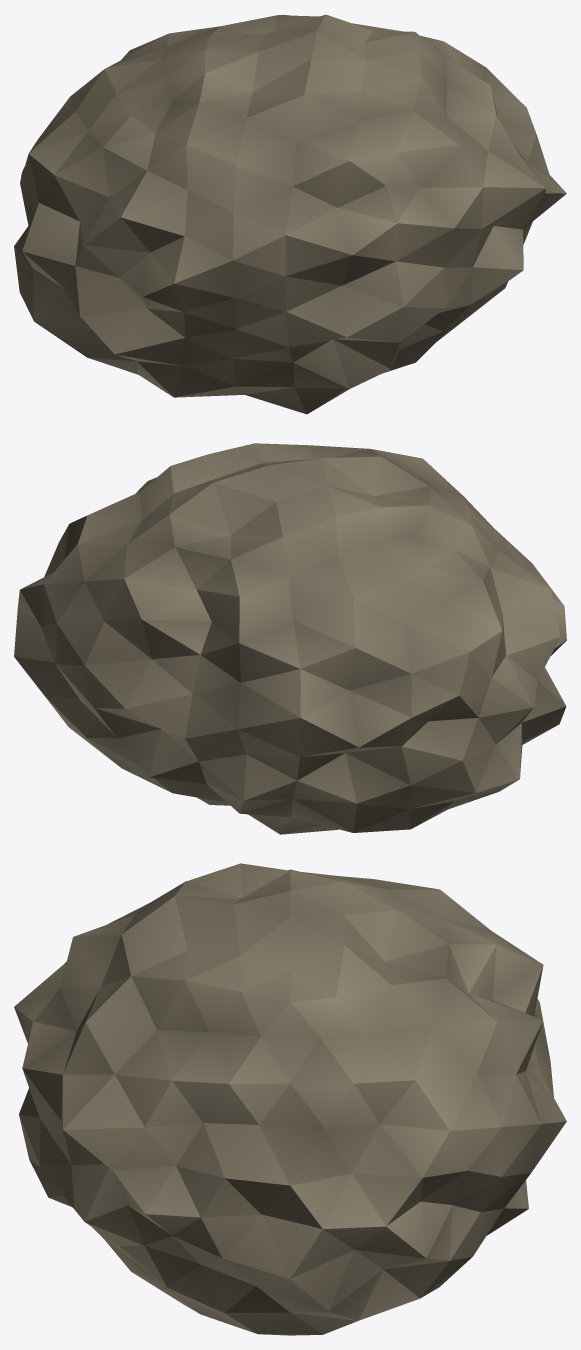
The model's file is coastal-limestone-EXV5M5JN.glb.
3 renders of one model, top to bottom at view 1: azimuth 30°, elevation 25°; view 2: azimuth 150°, elevation 25°; view 3: azimuth 270°, elevation 25°, orthographic. The views are drawn at different scales.
Visible parts, largest first — view 1: Eluanbi weathered limestone — original procedural asset; view 2: Eluanbi weathered limestone — original procedural asset; view 3: Eluanbi weathered limestone — original procedural asset.
Boxes of the visible parts, x1,y1,x2,y2 form: Eluanbi weathered limestone — original procedural asset: (14, 14, 566, 414); Eluanbi weathered limestone — original procedural asset: (14, 443, 566, 834); Eluanbi weathered limestone — original procedural asset: (14, 863, 566, 1335).
Size of the model in its own units: 2.13 by 1.33 by 1.74.
